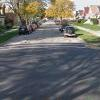Tree: (11, 0, 98, 18)
